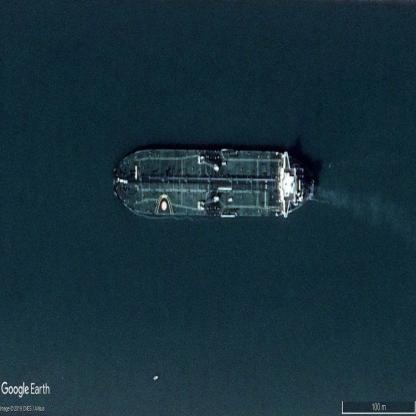ship: (114, 150, 315, 217)
